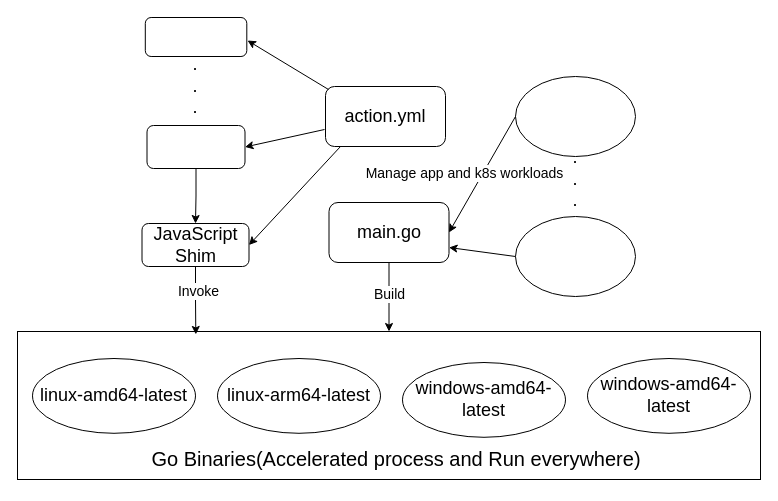
Image size: 778x501. Some labels were removed from this diagram. The shapes that lost their labels are listed below. From the top down, each one's box as (x1, y1, x2, y2) in pixels, then its label:
(144, 16, 247, 56): start cluster
(514, 76, 636, 156): controllers
(146, 124, 245, 168): install kubearmor
(514, 216, 636, 296): other tools
